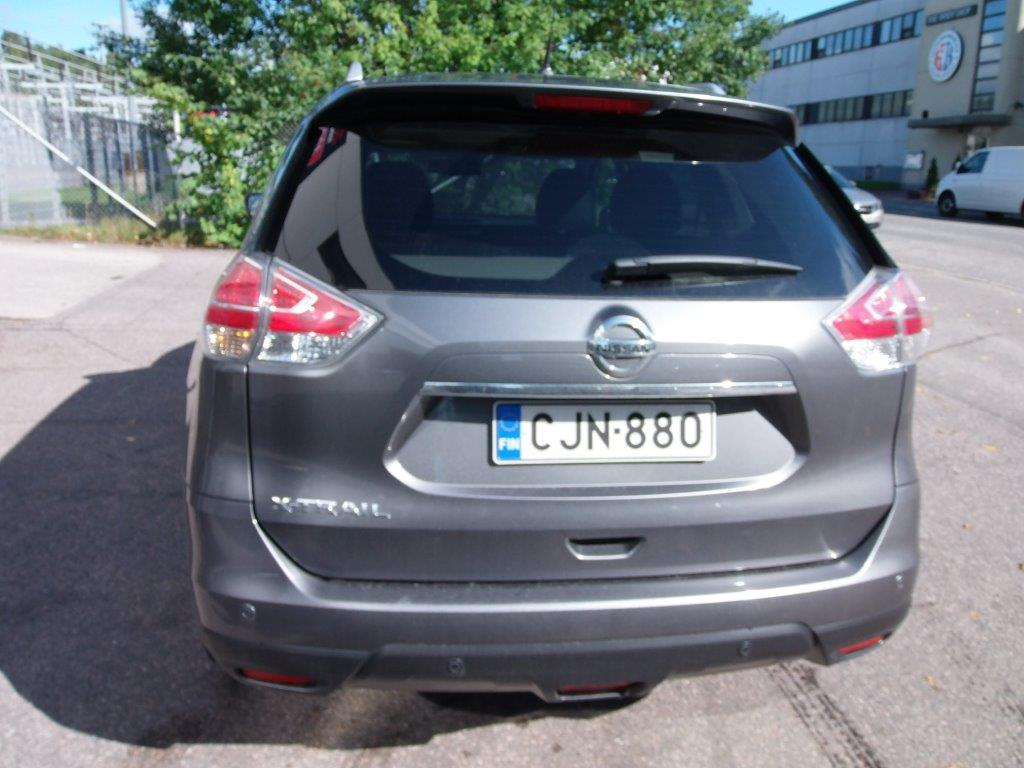license: (488, 396, 715, 469)
